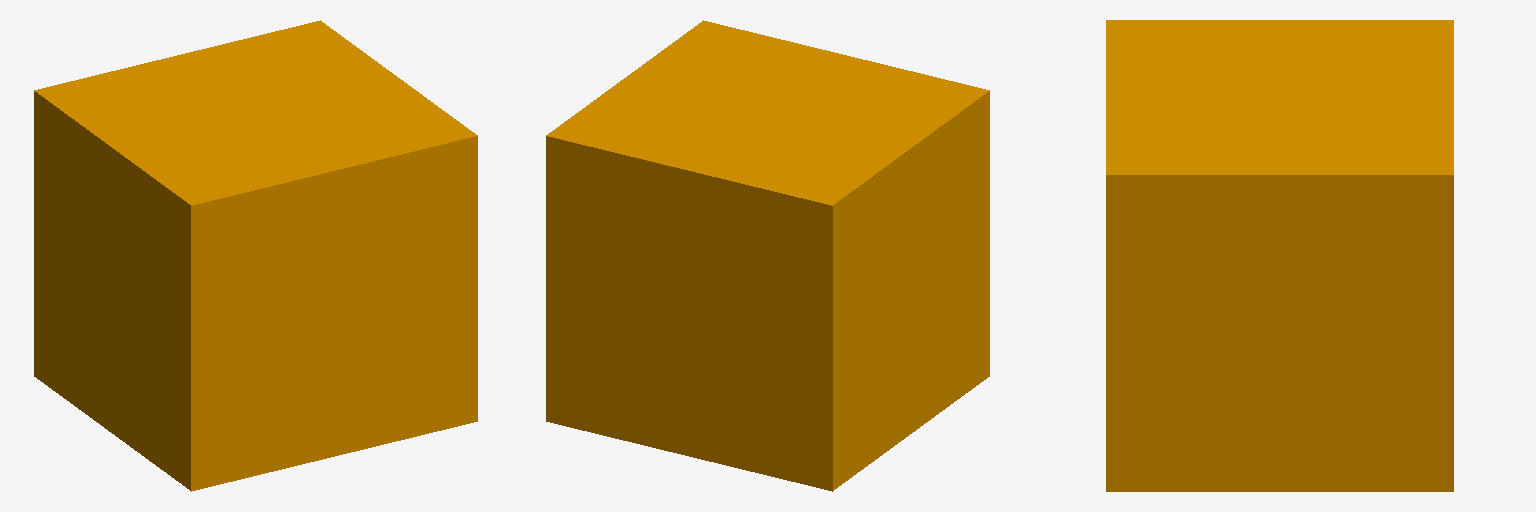
The robot description file, URDF, robot "optotrak_cube":
<?xml version="1.0"?>
<robot
  name="optotrak_cube">
  <link name="optotrak_cube">
    <visual>
      <geometry>
        <box size="0.1324 0.1261 0.1261"/>
      </geometry>
    </visual>
    <collision>
      <geometry>
        <box size="0.1324 0.1261 0.1261"/>
      </geometry>
    </collision>
    <inertial>
      <mass value="0.1"/>
      <inertia ixx="0.01" ixy="0.0" ixz="0.0" iyy="0.01" iyz="0.0" izz="0.01"/>
      <origin xyz="0 0 0"/>
    </inertial>
  </link>
</robot>

--- What the picture shows (computed from the rendered views, not written in the file) ---
The picture shows the robot from 3 angles, left to right: view 1: azimuth 30°, elevation 25°; view 2: azimuth 150°, elevation 25°; view 3: azimuth 270°, elevation 25°; orthographic projection.
Model optotrak_cube with 1 links and 0 joints (none), rooted at optotrak_cube, posed all joints at 0.
Visible links, largest first — view 1: optotrak_cube; view 2: optotrak_cube; view 3: optotrak_cube.
Link boxes in pixels (left/top/right/bottom): optotrak_cube: left=34, top=20, right=477, bottom=491; optotrak_cube: left=546, top=20, right=989, bottom=491; optotrak_cube: left=1106, top=20, right=1453, bottom=491.
Bounding box of the posed robot: 0.1324 × 0.1261 × 0.1261 m (x, y, z).
Geometry: primitives only (box / cylinder / sphere), no mesh files.